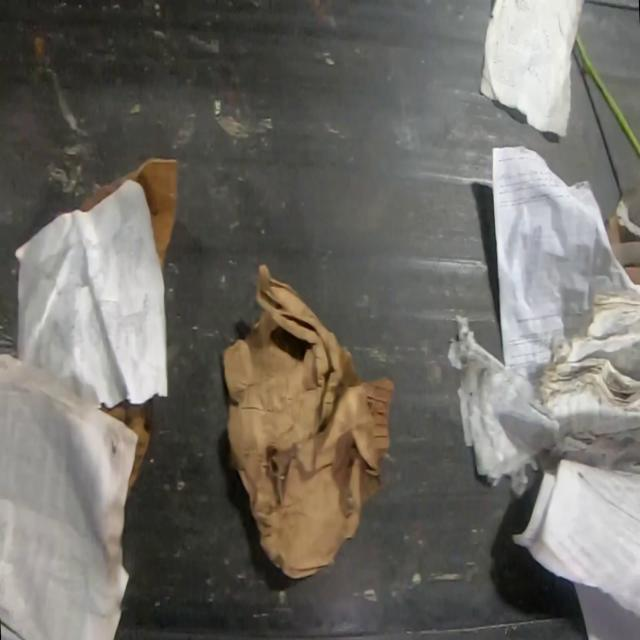cardboard: (222, 262, 393, 580), (78, 159, 180, 271), (98, 399, 153, 492)
